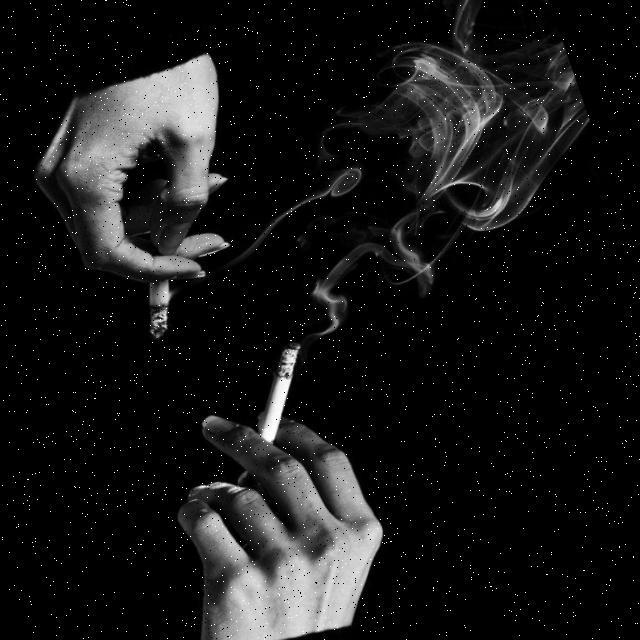cigarette: (228, 340, 328, 449)
